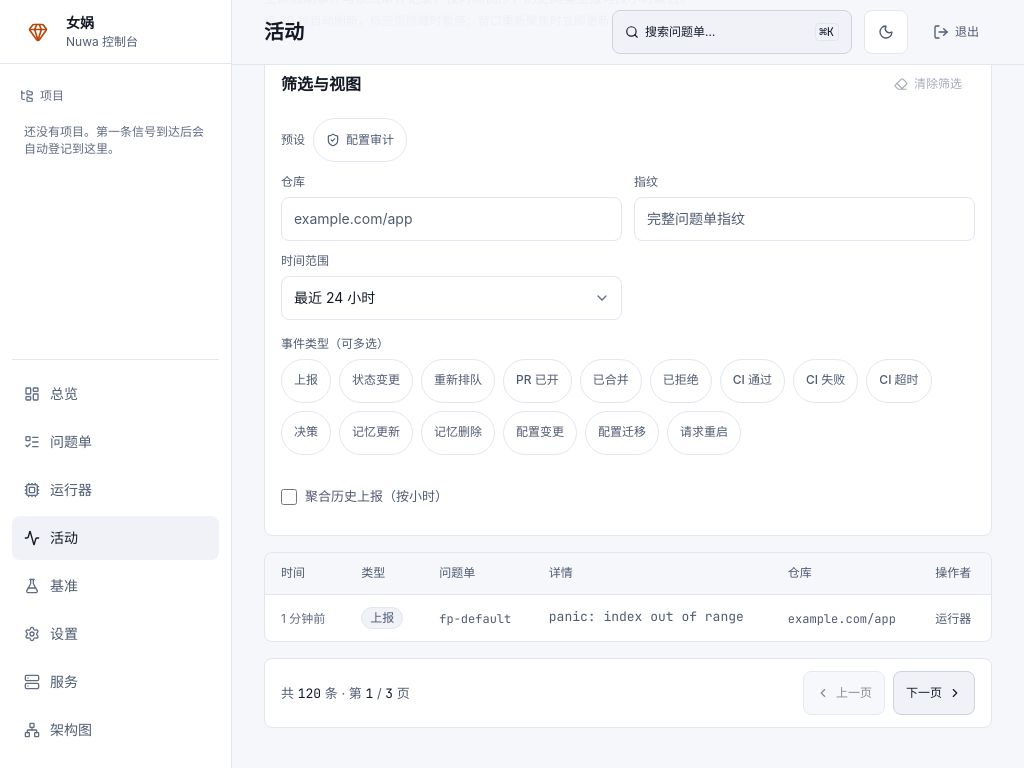
Test: EventsPage › paginates with next/prev using 50 rows per page
(page scrolled)
Expected: the navigation bar named "活动分页" shows "第 1 / 3 页", [264,658,992,728]
Expected: the button "上一页" is disabled, [803,671,885,715]
Click the button "下一页". click: (934, 693)
box: [893,671,975,715]
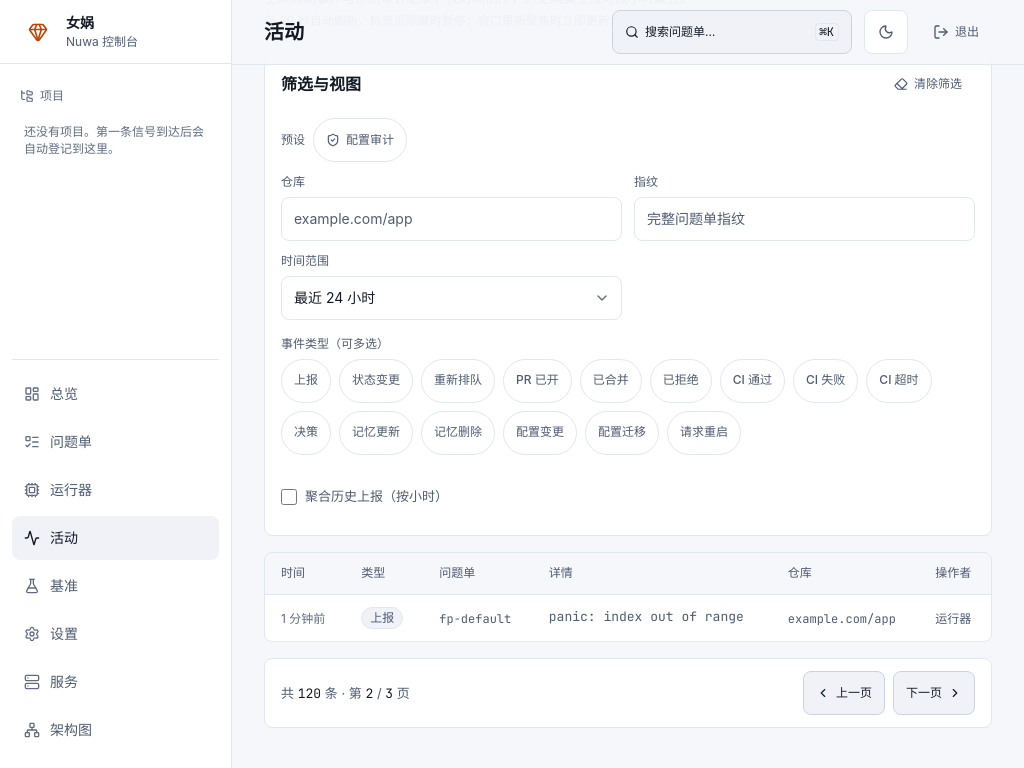
Expected: the navigation bar named "活动分页" shows "第 2 / 3 页", [264,658,992,728]
